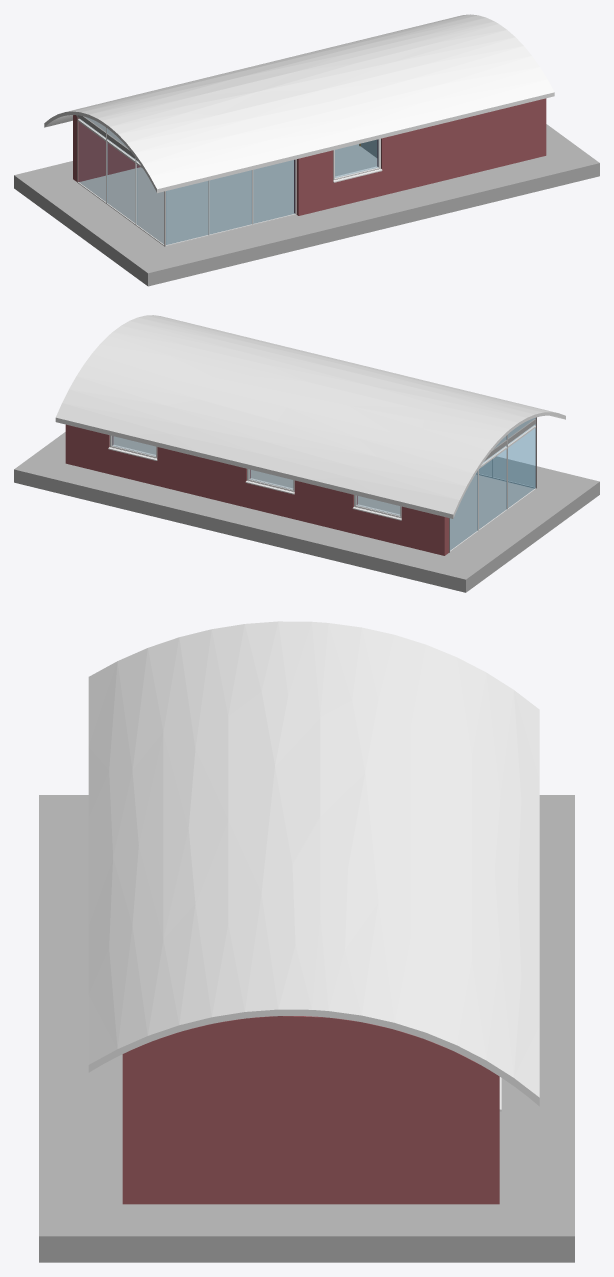
Rendered from SampleHouse-ifc4.dae.
3 renders of one model, top to bottom at view 1: azimuth 30°, elevation 25°; view 2: azimuth 150°, elevation 25°; view 3: azimuth 270°, elevation 25°, orthographic. The views are drawn at different scales.
Visible parts, largest first — view 1: 35959_BasicRoofRoof_Flat4Felt150Ins50Scr150Conc12Plr286419, 33951_FloorFloorGrndSusp_65Scr80Ins100Blk75PC286349, 2327_BasicWallWallExt_102Bwk75Ins100LBlk12P285459, 1229_BasicWallWallExt_102Bwk75Ins100LBlk12P285330, 3858_SystemPanelGlazed285685, 3905_SystemPanelGlazed285688, 3951_SystemPanelGlazed285690, 2628_SystemPanelGlazed285586, 2470_SystemPanelGlazed285583, 36107_Windows_Sgl_Plain1810x1210mm287567, 2730_SystemPanelGlazed285588, 1752_BasicWallWallExt_102Bwk75Ins100LBlk12P285395 (+1 smaller); view 2: 35959_BasicRoofRoof_Flat4Felt150Ins50Scr150Conc12Plr286419, 33951_FloorFloorGrndSusp_65Scr80Ins100Blk75PC286349, 1229_BasicWallWallExt_102Bwk75Ins100LBlk12P285330, 2730_SystemPanelGlazed285588, 3858_SystemPanelGlazed285685, 2628_SystemPanelGlazed285586, 2470_SystemPanelGlazed285583, 33350_Windows_Sgl_Plain1810x1210mm286105, 33515_Windows_Sgl_Plain1810x1210mm286188, 33588_Windows_Sgl_Plain1810x1210mm286238, 78145_FloorSimplefloor295048; view 3: 35959_BasicRoofRoof_Flat4Felt150Ins50Scr150Conc12Plr286419, 33951_FloorFloorGrndSusp_65Scr80Ins100Blk75PC286349, 1752_BasicWallWallExt_102Bwk75Ins100LBlk12P285395, 1229_BasicWallWallExt_102Bwk75Ins100LBlk12P285330.
Part boxes in pixels (box(x1,y1,x2,y2)): 35959_BasicRoofRoof_Flat4Felt150Ins50Scr150Conc12Plr286419: box(44, 14, 554, 193); 33951_FloorFloorGrndSusp_65Scr80Ins100Blk75PC286349: box(14, 124, 599, 286); 2327_BasicWallWallExt_102Bwk75Ins100LBlk12P285459: box(294, 100, 538, 215); 1229_BasicWallWallExt_102Bwk75Ins100LBlk12P285330: box(73, 115, 140, 181); 3858_SystemPanelGlazed285685: box(166, 181, 207, 244); 3905_SystemPanelGlazed285688: box(210, 171, 251, 233); 3951_SystemPanelGlazed285690: box(254, 160, 294, 222); 2628_SystemPanelGlazed285586: box(108, 130, 134, 222); 2470_SystemPanelGlazed285583: box(79, 118, 105, 200); 36107_Windows_Sgl_Plain1810x1210mm287567: box(333, 138, 382, 182); 2730_SystemPanelGlazed285588: box(137, 165, 163, 243); 1752_BasicWallWallExt_102Bwk75Ins100LBlk12P285395: box(538, 98, 546, 157); 35959_BasicRoofRoof_Flat4Felt150Ins50Scr150Conc12Plr286419: box(55, 315, 565, 518); 33951_FloorFloorGrndSusp_65Scr80Ins100Blk75PC286349: box(14, 432, 599, 592); 1229_BasicWallWallExt_102Bwk75Ins100LBlk12P285330: box(65, 424, 448, 555); 2730_SystemPanelGlazed285588: box(508, 418, 534, 507); 3858_SystemPanelGlazed285685: box(492, 428, 535, 487); 2628_SystemPanelGlazed285586: box(479, 437, 505, 528); 2470_SystemPanelGlazed285583: box(450, 473, 476, 549); 33350_Windows_Sgl_Plain1810x1210mm286105: box(108, 435, 157, 460); 33515_Windows_Sgl_Plain1810x1210mm286188: box(245, 469, 294, 494); 33588_Windows_Sgl_Plain1810x1210mm286238: box(352, 495, 401, 520); 78145_FloorSimplefloor295048: box(484, 418, 535, 461); 35959_BasicRoofRoof_Flat4Felt150Ins50Scr150Conc12Plr286419: box(88, 621, 539, 1106); 33951_FloorFloorGrndSusp_65Scr80Ins100Blk75PC286349: box(39, 795, 574, 1262); 1752_BasicWallWallExt_102Bwk75Ins100LBlk12P285395: box(122, 1016, 481, 1204); 1229_BasicWallWallExt_102Bwk75Ins100LBlk12P285330: box(481, 1066, 499, 1204).
Bounding box in the file's own units: 16.87 × 8.67 × 3.95.
